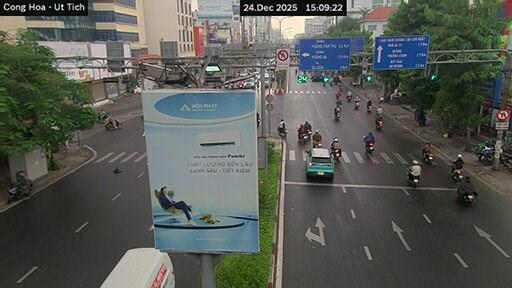motorbike: (7, 180, 32, 203), (457, 185, 477, 206), (476, 147, 493, 164), (406, 169, 419, 187), (104, 119, 121, 129), (452, 169, 463, 182), (423, 151, 433, 164), (331, 147, 340, 161), (299, 132, 310, 143), (97, 111, 107, 121), (277, 128, 287, 138), (365, 143, 374, 154), (375, 118, 382, 130), (335, 111, 341, 121), (313, 140, 321, 147), (256, 113, 260, 126), (346, 93, 351, 101), (354, 101, 359, 109), (336, 97, 341, 105), (367, 105, 371, 112), (338, 85, 342, 91), (330, 81, 332, 86)
